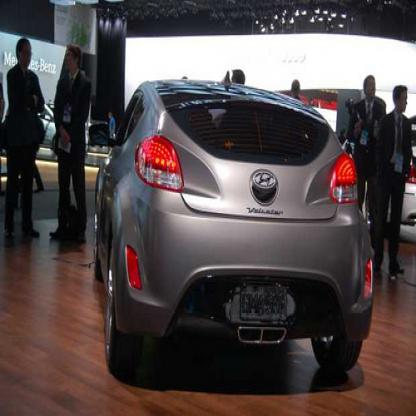Vehicle: (92, 73, 376, 391)
